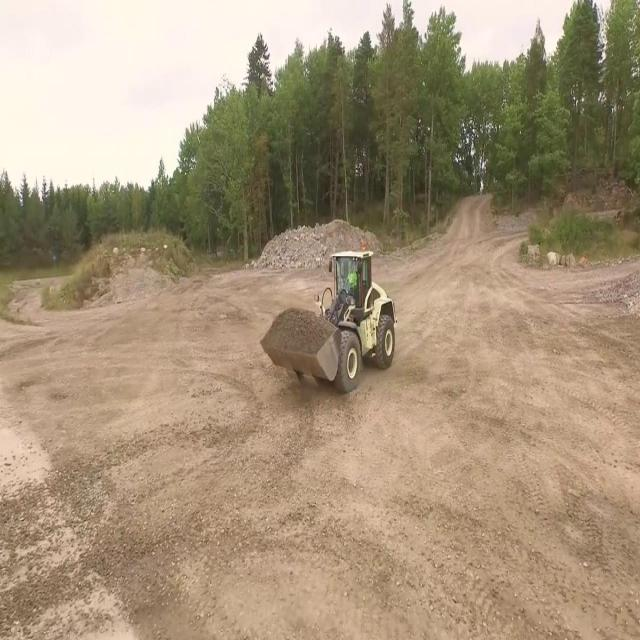Loader: (259, 250, 396, 392)
